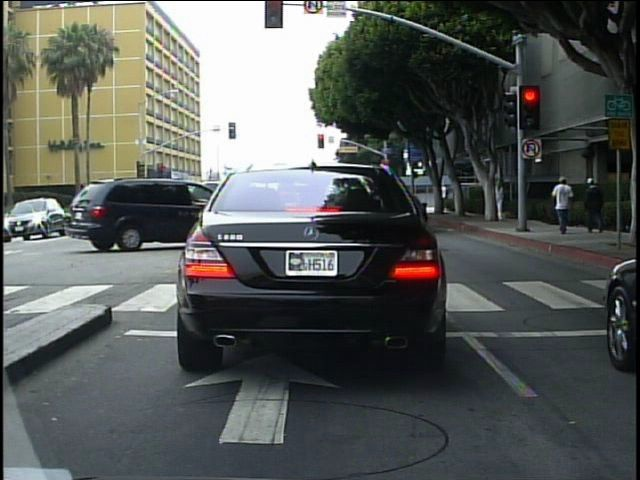person: (552, 174, 580, 236), (584, 173, 609, 237), (493, 177, 509, 222), (437, 179, 451, 213)
